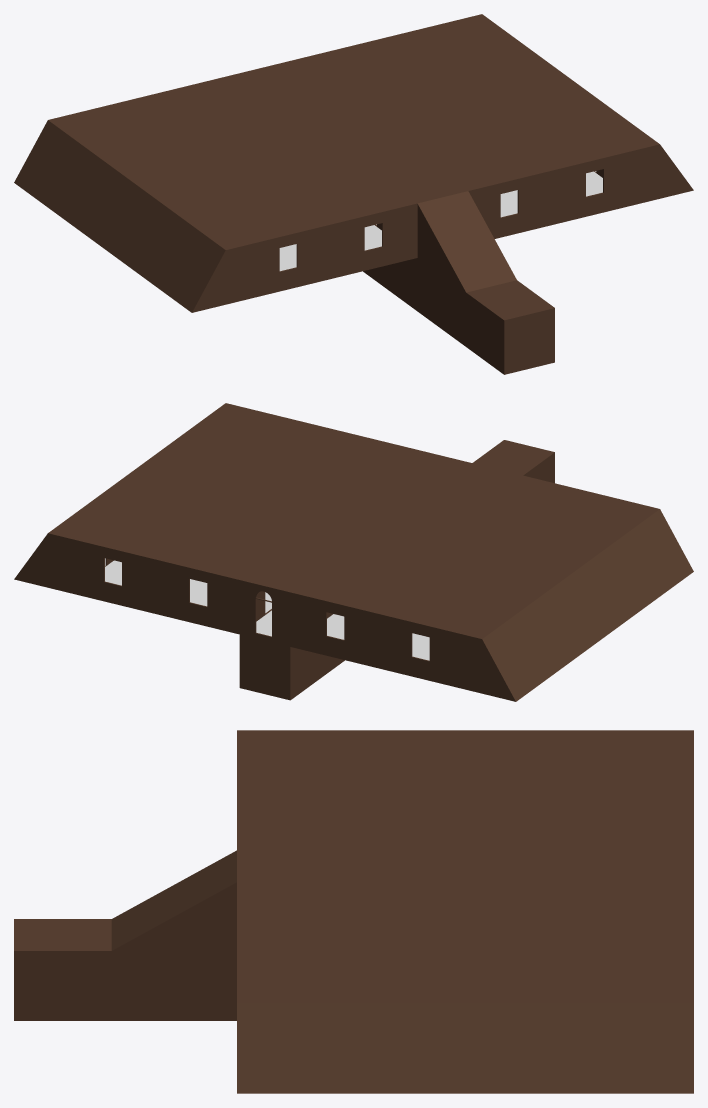
The model's file is BrownButcher.fbx.
The picture shows the model from 3 angles, top to bottom: view 1: azimuth 30°, elevation 25°; view 2: azimuth 150°, elevation 25°; view 3: azimuth 270°, elevation 25°; orthographic projection. The views are drawn at different scales.
Visible parts, largest first — view 1: TheBrownButcher; view 2: TheBrownButcher; view 3: TheBrownButcher.
Boxes of the visible parts, x1,y1,x2,y2 form: TheBrownButcher: [14, 14, 693, 374]; TheBrownButcher: [14, 403, 693, 701]; TheBrownButcher: [14, 730, 693, 1093].
Size of the model in its own units: 2960 by 609 by 2702.
